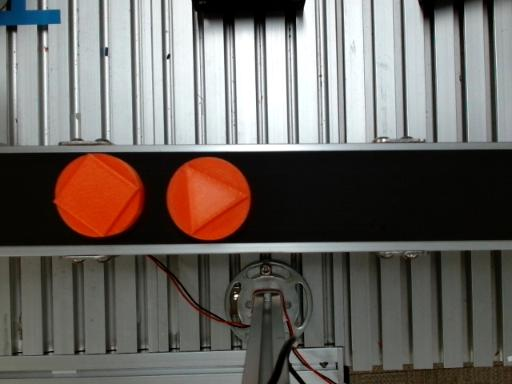Not_Square: (185, 164, 249, 236)
Orange_Waper: (54, 154, 144, 238), (166, 157, 250, 240)
Square: (54, 153, 139, 237)
